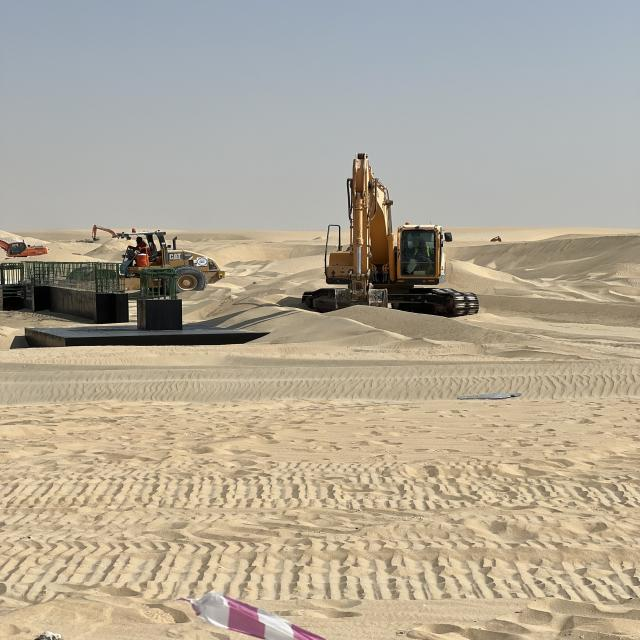Excavator: (301, 148, 481, 322)
